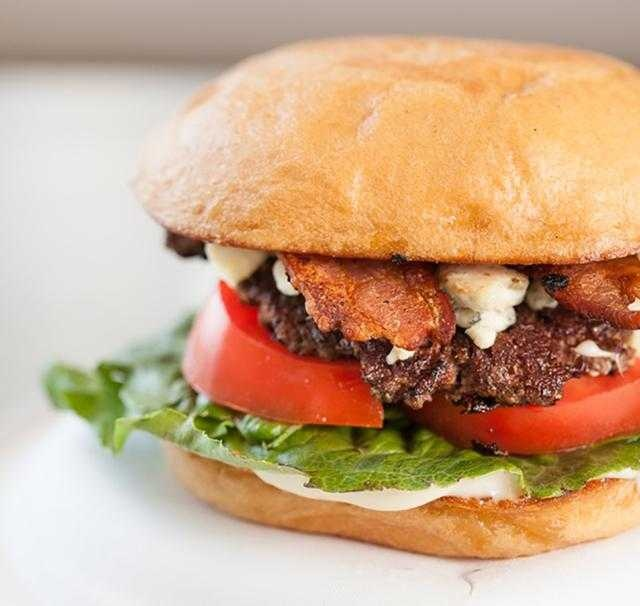hamburger: (149, 27, 640, 548)
